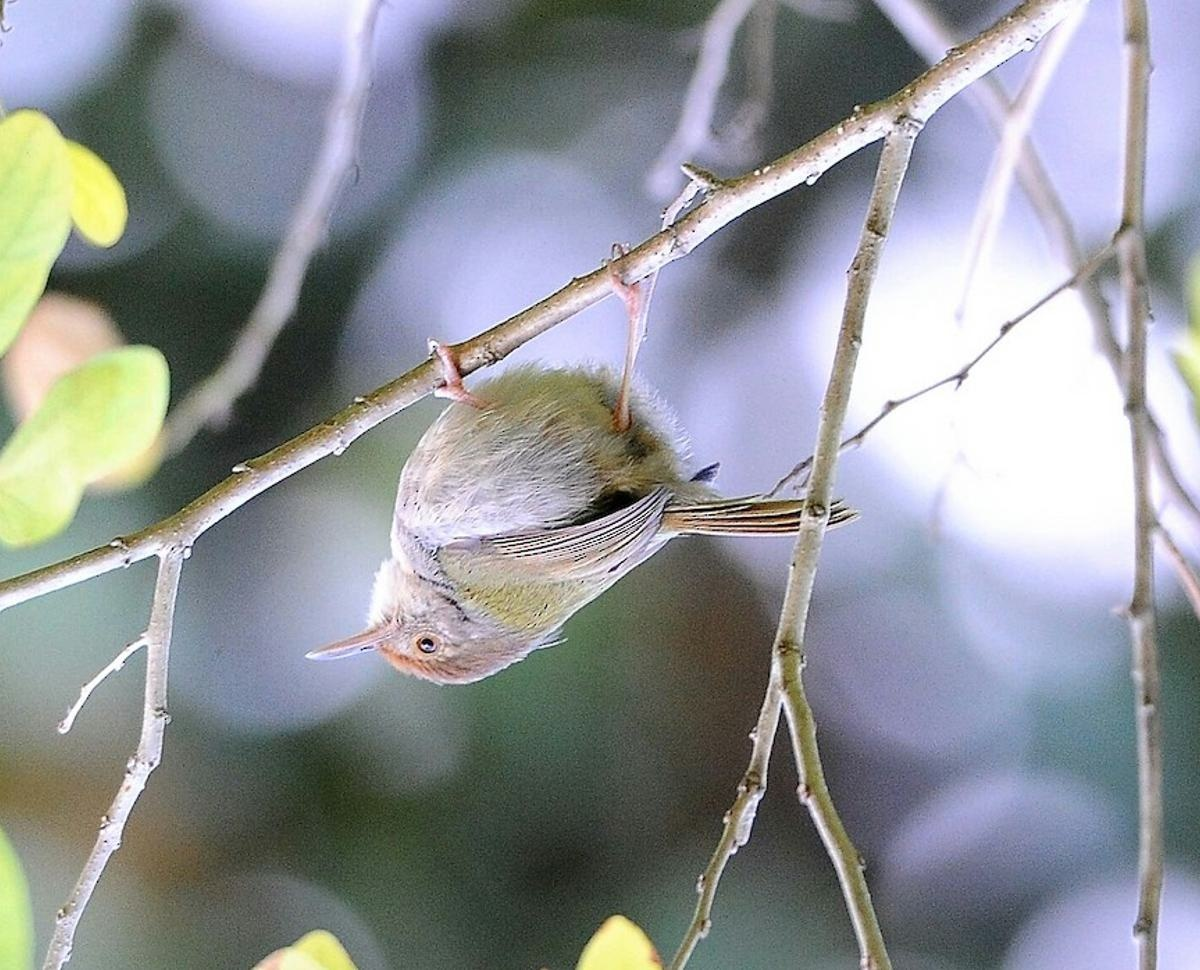tailorbird: (288, 305, 931, 710)
